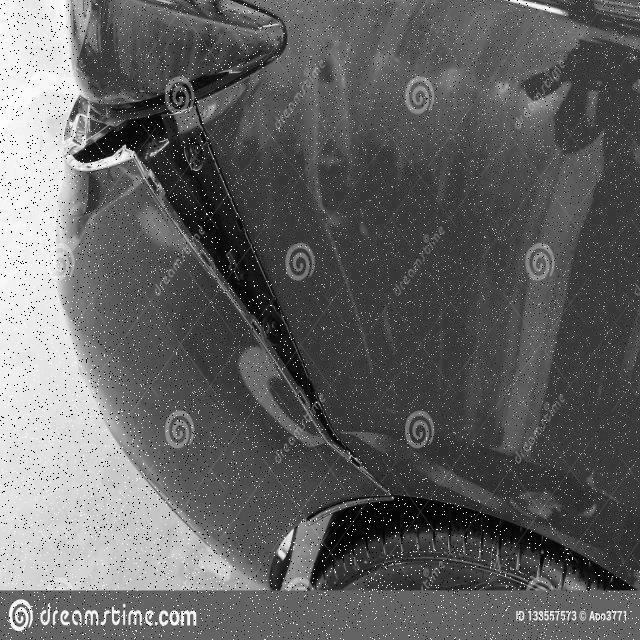rear-bumper-dent: (18, 67, 389, 527)
